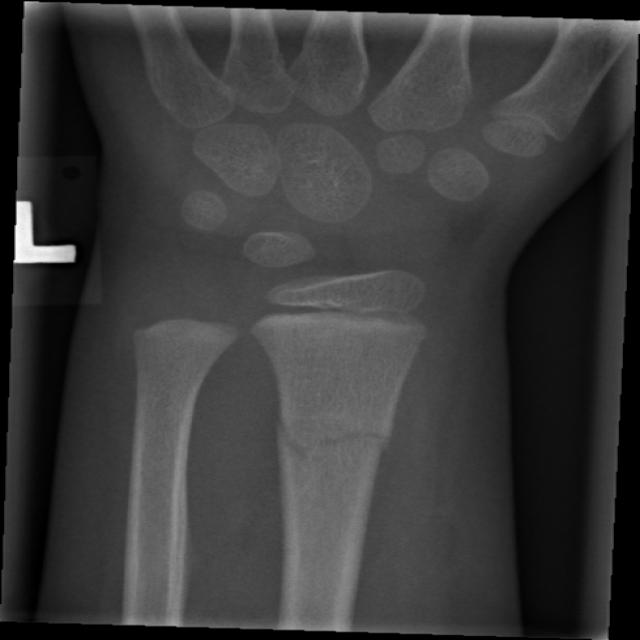radius fracture: (254, 368, 426, 564)
